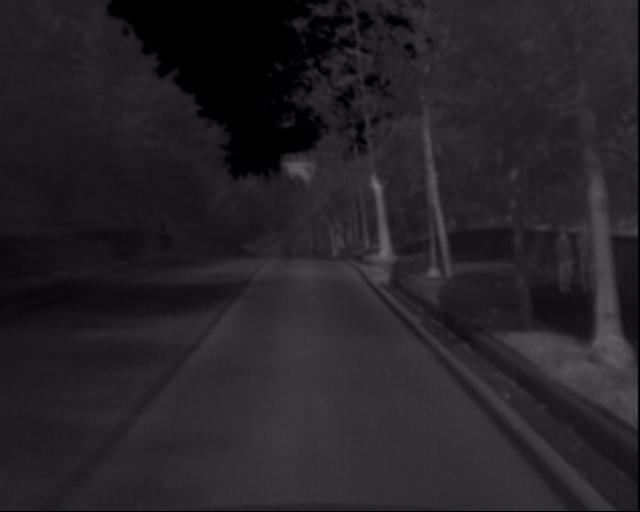person: (550, 218, 588, 295), (577, 218, 612, 293)
